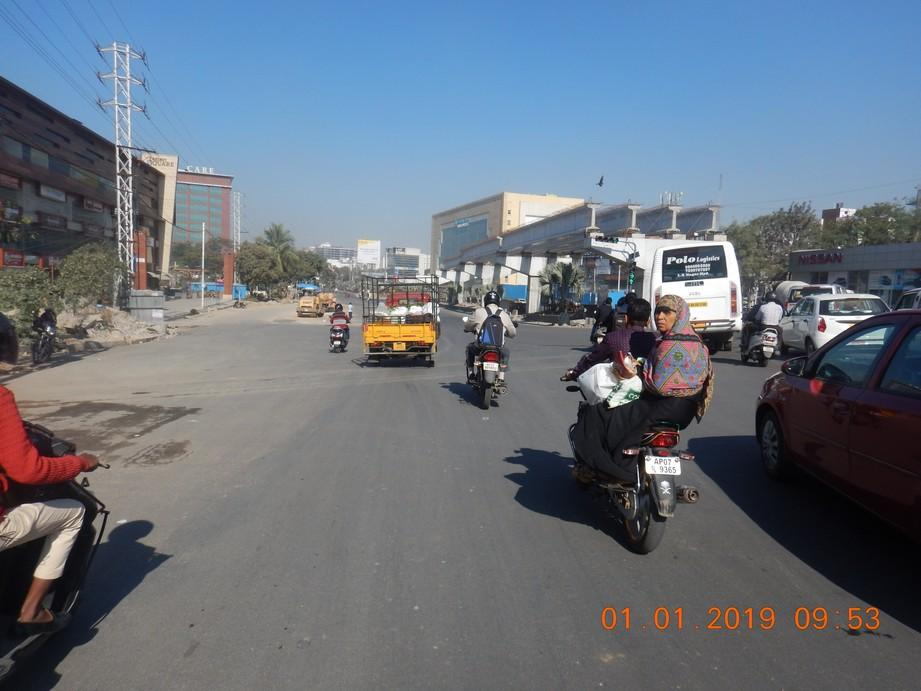plate: (643, 454, 686, 479), (480, 361, 501, 374)
